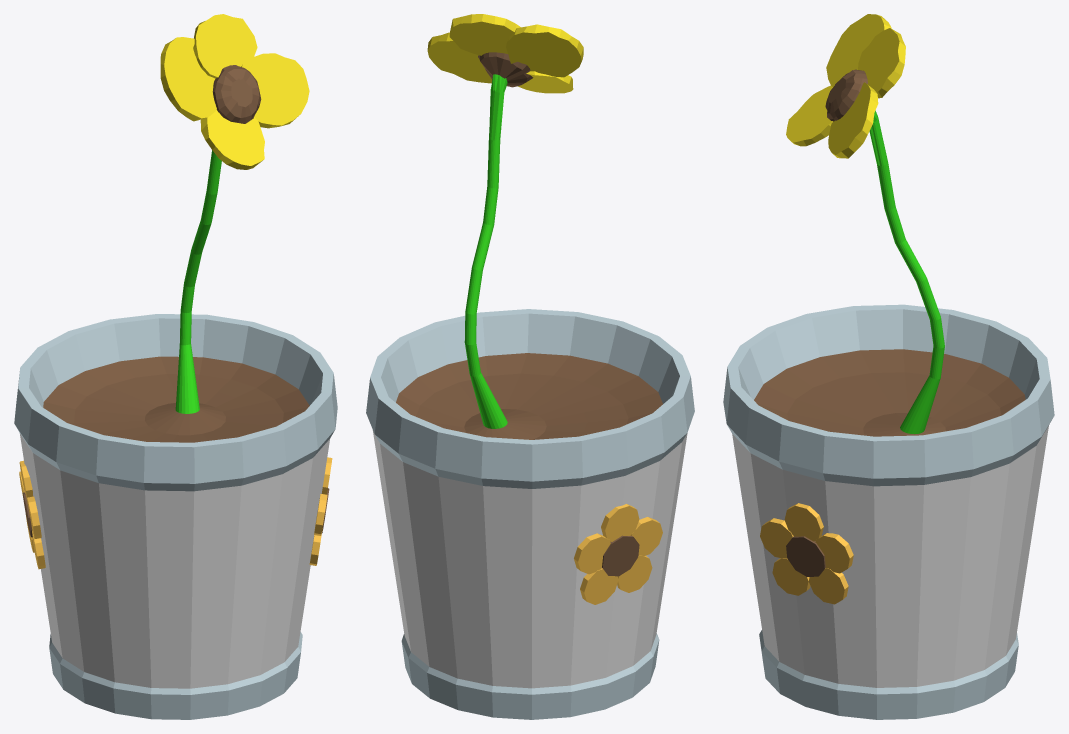
The model's file is yellowflower.fbx.
The picture shows the model from 3 angles, left to right: view 1: azimuth 30°, elevation 25°; view 2: azimuth 150°, elevation 25°; view 3: azimuth 270°, elevation 25°; orthographic projection. The views are drawn at different scales.
Parts seen in each view (by area): view 1: Cylinder.003; view 2: Cylinder.003; view 3: Cylinder.003.
Part boxes in pixels (bbox=[...]): Cylinder.003: bbox=[14, 14, 337, 719]; Cylinder.003: bbox=[366, 14, 694, 719]; Cylinder.003: bbox=[723, 14, 1054, 719].
Size of the model in its own units: 20.07 by 43.67 by 20.07.
Materials: 1 (1 with a texture image).
